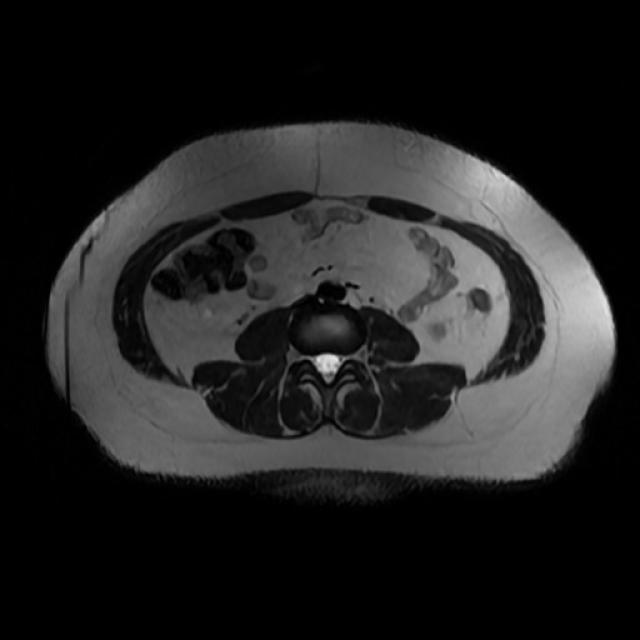sol: (430, 319, 448, 341)
